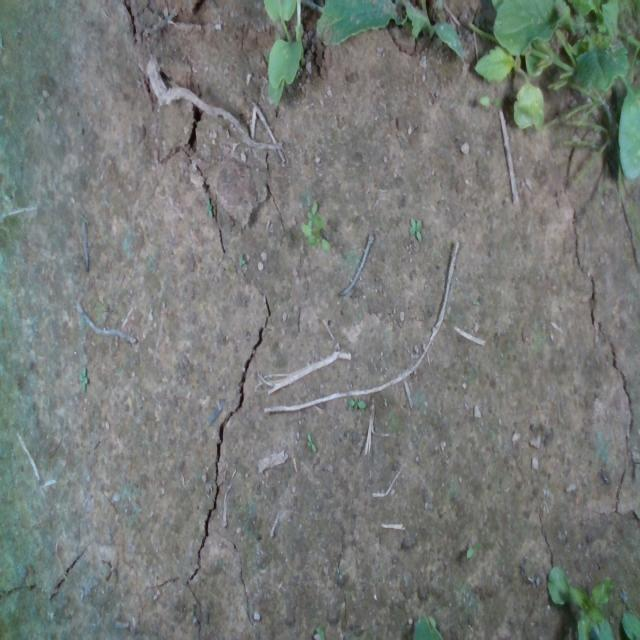weed: (408, 215, 422, 241), (346, 396, 366, 410), (306, 431, 316, 453), (236, 250, 246, 266)
